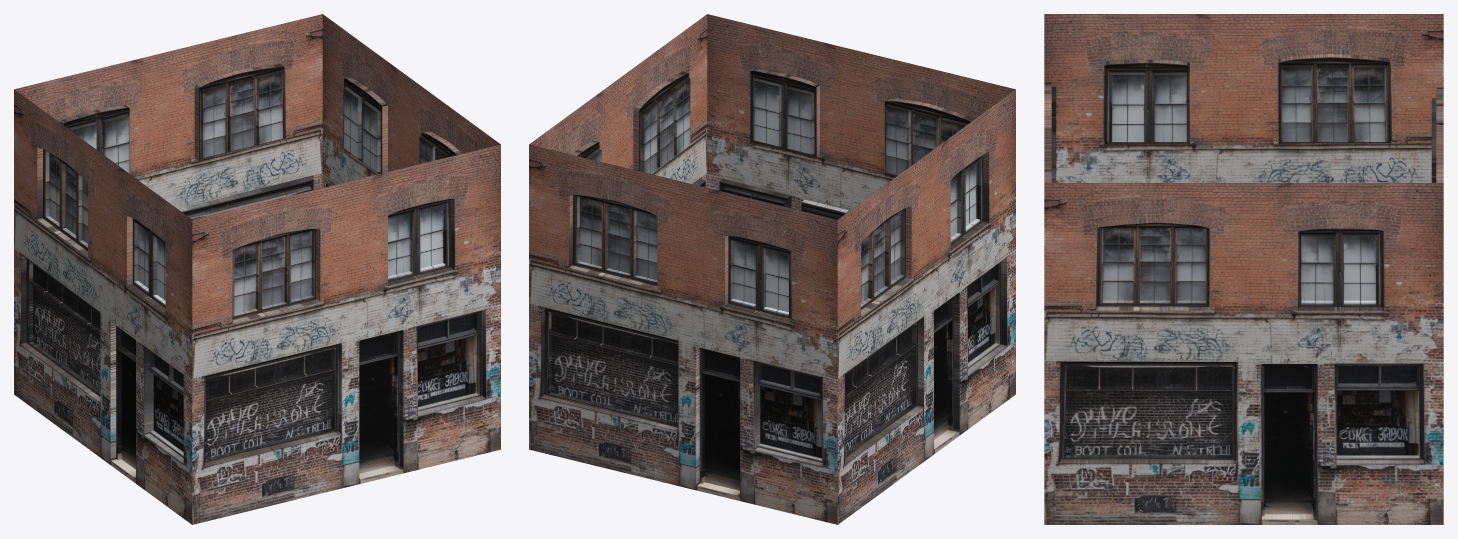
Rendered from Building_0.glb.
3 renders of one model, left to right at view 1: azimuth 30°, elevation 25°; view 2: azimuth 150°, elevation 25°; view 3: azimuth 270°, elevation 25°, orthographic. The views are drawn at different scales.
Parts seen in each view (by area): view 1: Building 3.001, Building 3.002, Building 3.003, Building 3; view 2: Building 3.003, Building 3.002, Building 3.001, Building 3; view 3: Building 3, Building 3.002, Building 3.001, Building 3.003.
Boxes of the visible parts, <box> form: Building 3.001: <box>192,144,500,524</box>; Building 3.002: <box>14,89,192,524</box>; Building 3.003: <box>14,14,322,219</box>; Building 3: <box>322,14,500,187</box>; Building 3.003: <box>529,144,837,524</box>; Building 3.002: <box>837,89,1015,524</box>; Building 3.001: <box>707,14,1015,219</box>; Building 3: <box>529,14,707,187</box>; Building 3: <box>1044,183,1443,524</box>; Building 3.002: <box>1044,14,1443,182</box>; Building 3.001: <box>1044,81,1056,182</box>; Building 3.003: <box>1431,87,1443,182</box>.
Bounding box in the file's own units: 6.45 × 6.1 × 6.45.
Materials: 2 (2 with a texture image).
